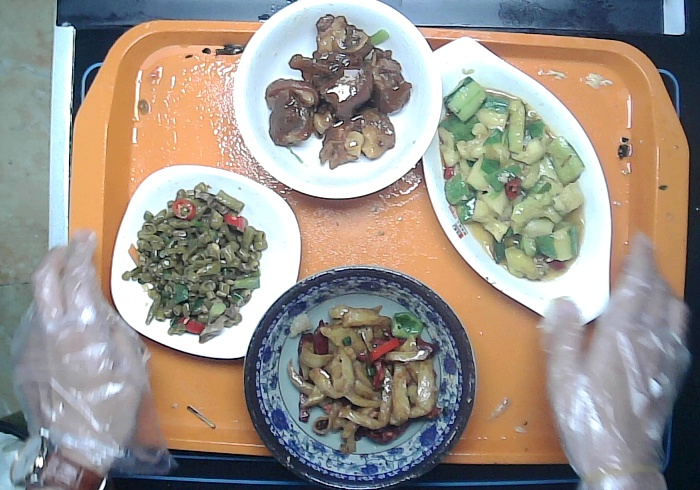ZNLD-Qing_Hua_Wan: (242, 264, 477, 490)
ZNLD-Si_Fang_Wan: (109, 163, 302, 360)
ZNLD-Tang_Wan: (231, 1, 443, 200)
ZNLD-Yu_Pan: (420, 34, 614, 327)
